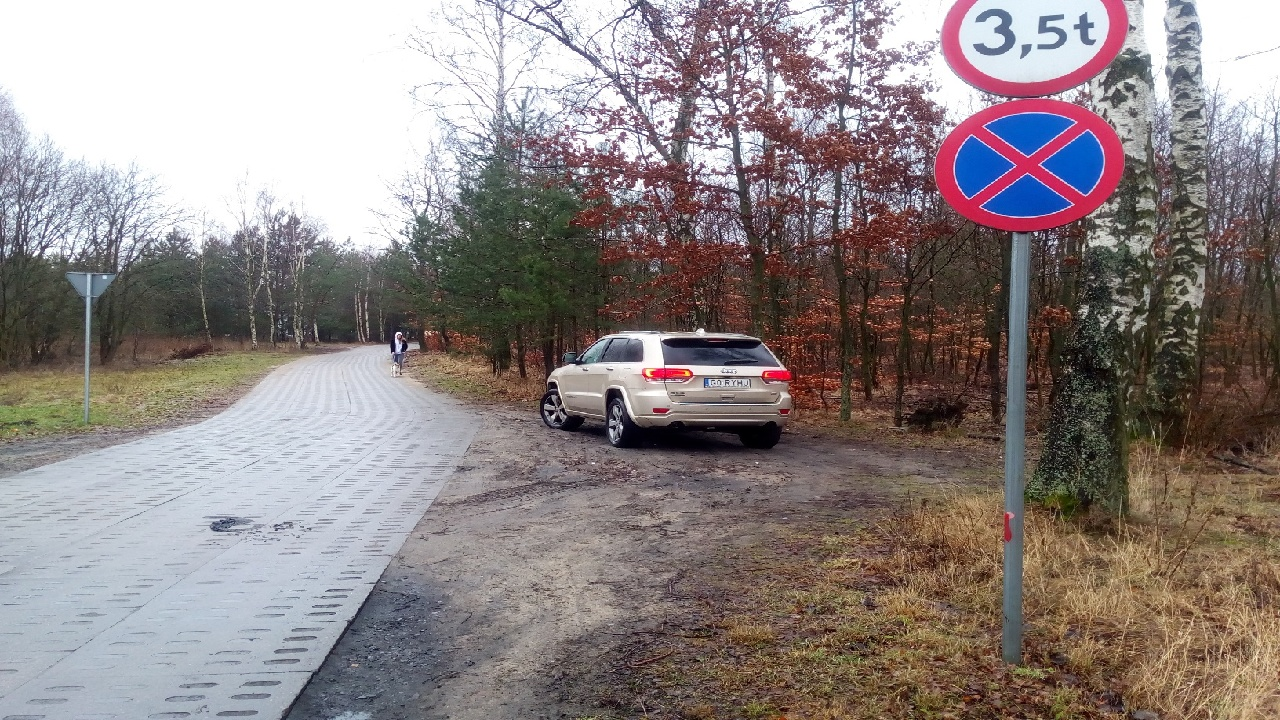B36: (933, 99, 1126, 229)
